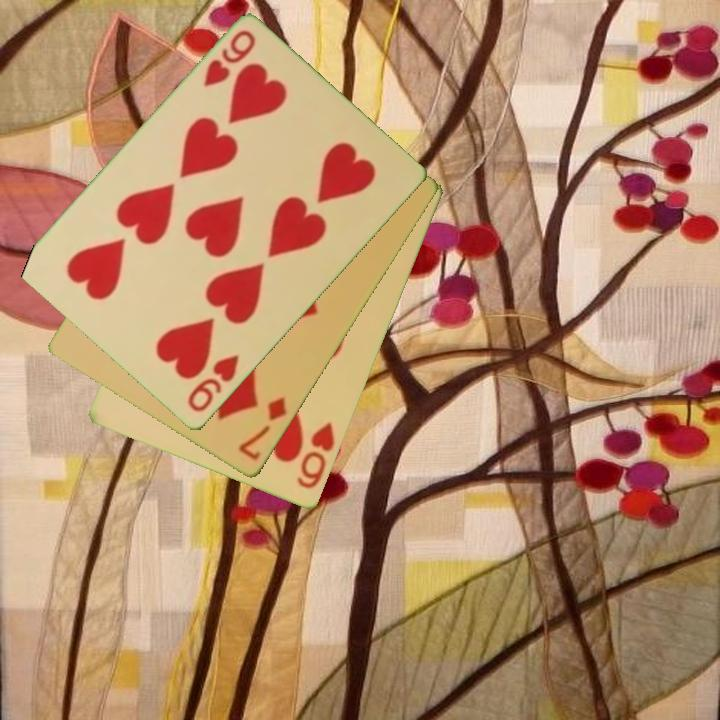6h: (293, 419, 338, 493)
7d: (235, 393, 290, 464)
9h: (199, 26, 259, 91), (184, 351, 242, 416)
